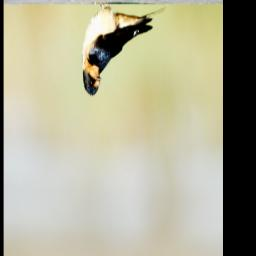Swallow: (81, 0, 166, 97)
